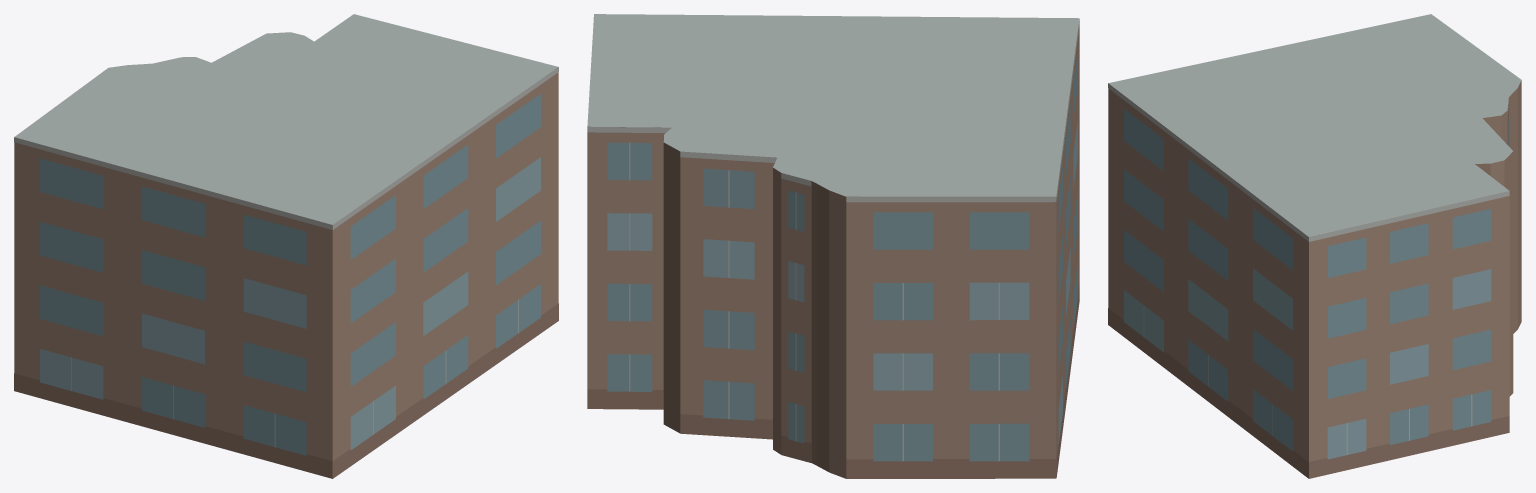
The model's file is survey-upis-32770017.glb.
The picture shows the model from 3 angles, left to right: view 1: azimuth 30°, elevation 25°; view 2: azimuth 150°, elevation 25°; view 3: azimuth 270°, elevation 25°; orthographic projection. The views are drawn at different scales.
Visible parts, largest first — view 1: survey-upis-32770017.tmp; view 2: survey-upis-32770017.tmp; view 3: survey-upis-32770017.tmp.
Boxes of the visible parts, x1,y1,x2,y2 form: survey-upis-32770017.tmp: (14, 14, 558, 478); survey-upis-32770017.tmp: (587, 14, 1079, 478); survey-upis-32770017.tmp: (1108, 14, 1521, 478).
Size of the model in its own units: 24.17 by 12.2 by 18.93.
